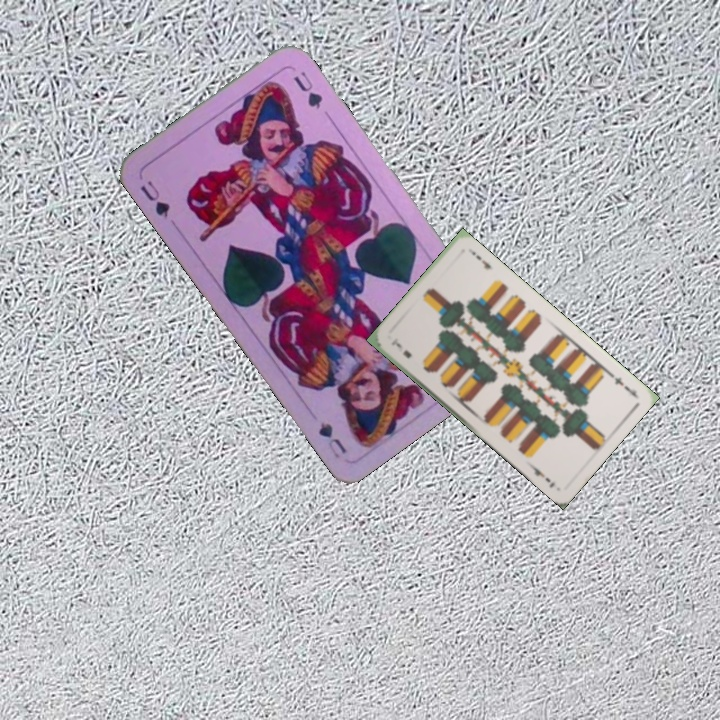E7: (605, 369, 640, 400), (387, 335, 414, 361)
GU: (136, 176, 173, 220)
